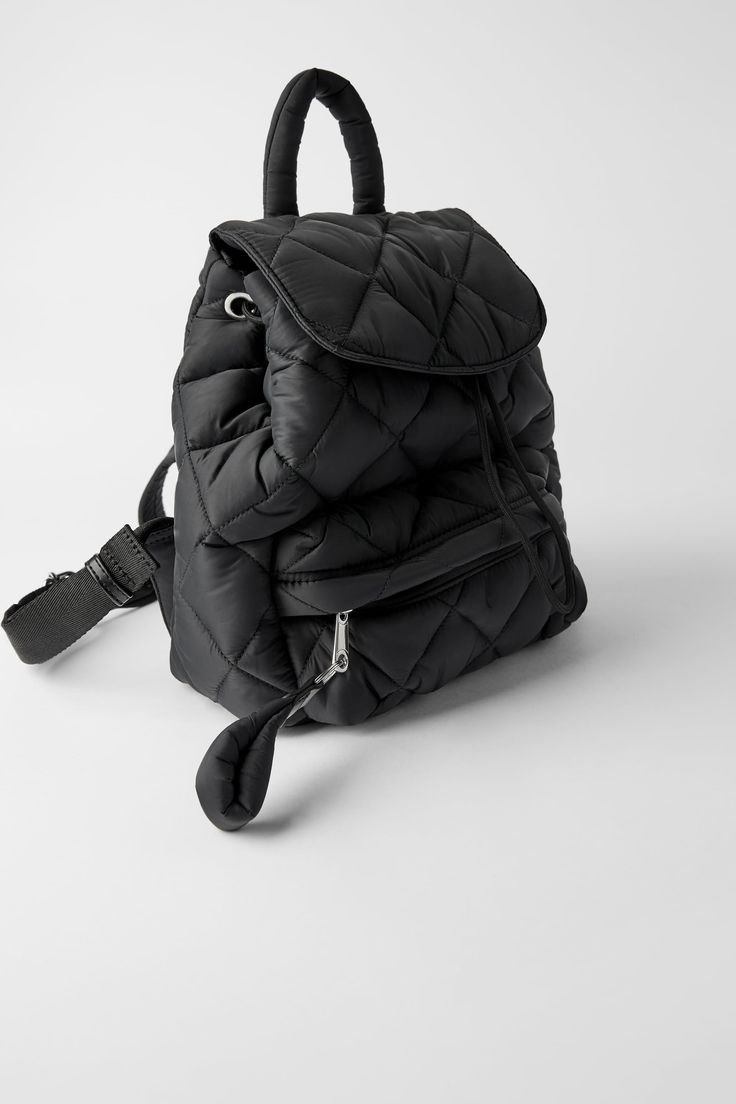nylon: (168, 68, 588, 726)
